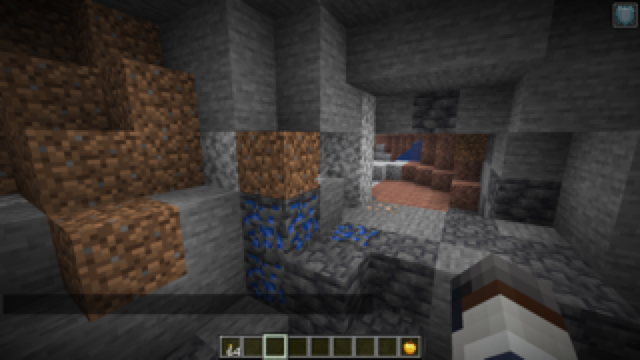iron: (365, 201, 394, 214)
lapis: (238, 188, 383, 312)
